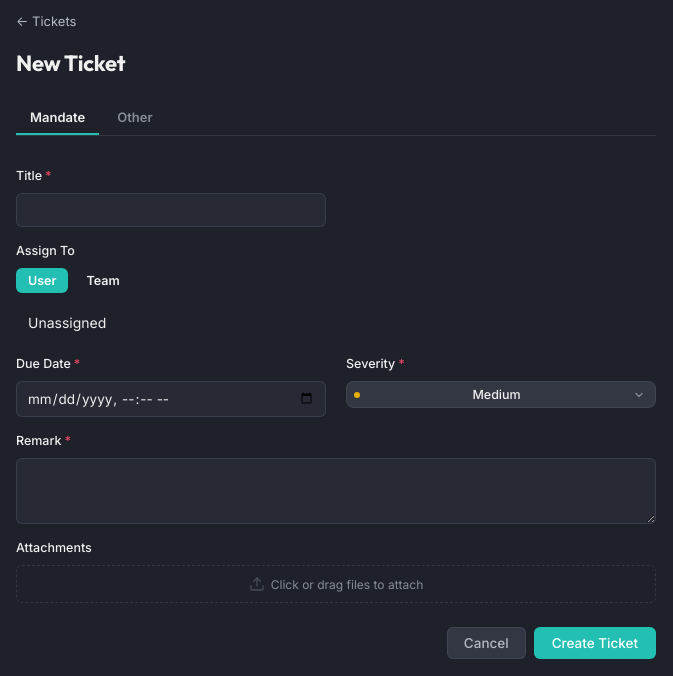
Test: CustomerRecordCreate — Mandate/Other tabs › shows required custom fields (title) on the Mandate tab and optional ones only on Other
The width and height of the screenshot is (673, 676).
Check: the button "Mandate" is shown, box [16,101,99,135]
Check: the text "Title" is shown, box [16,168,42,183]
Click the button "Other" at {"x": 135, "y": 118}, box [103,101,166,135]
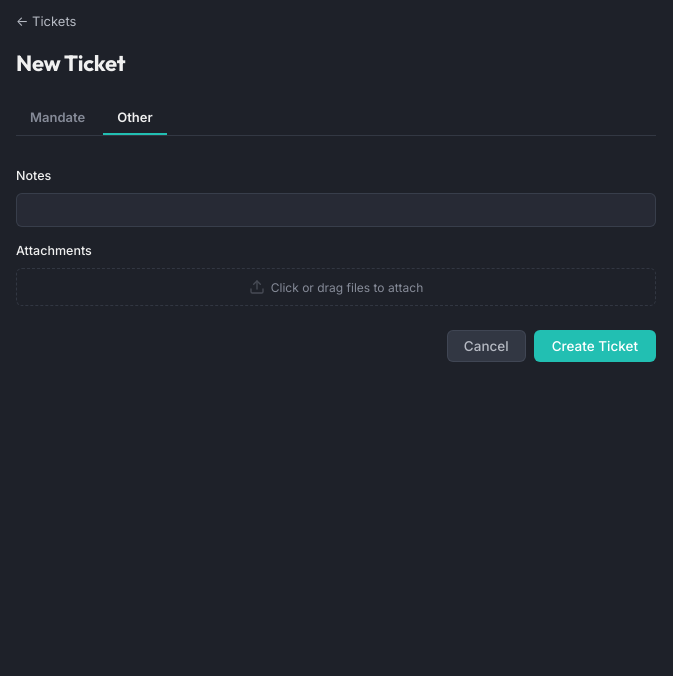
Check: the text "Notes" is shown, box [16,168,51,183]
Check: the text "Title" is gone
